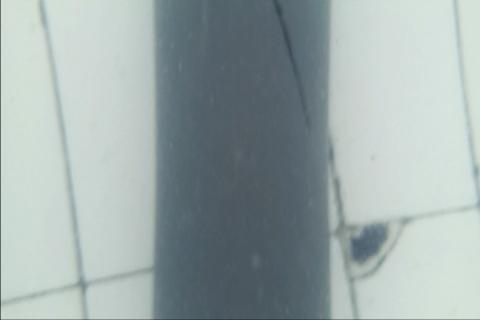keretakan: (271, 0, 314, 136)
